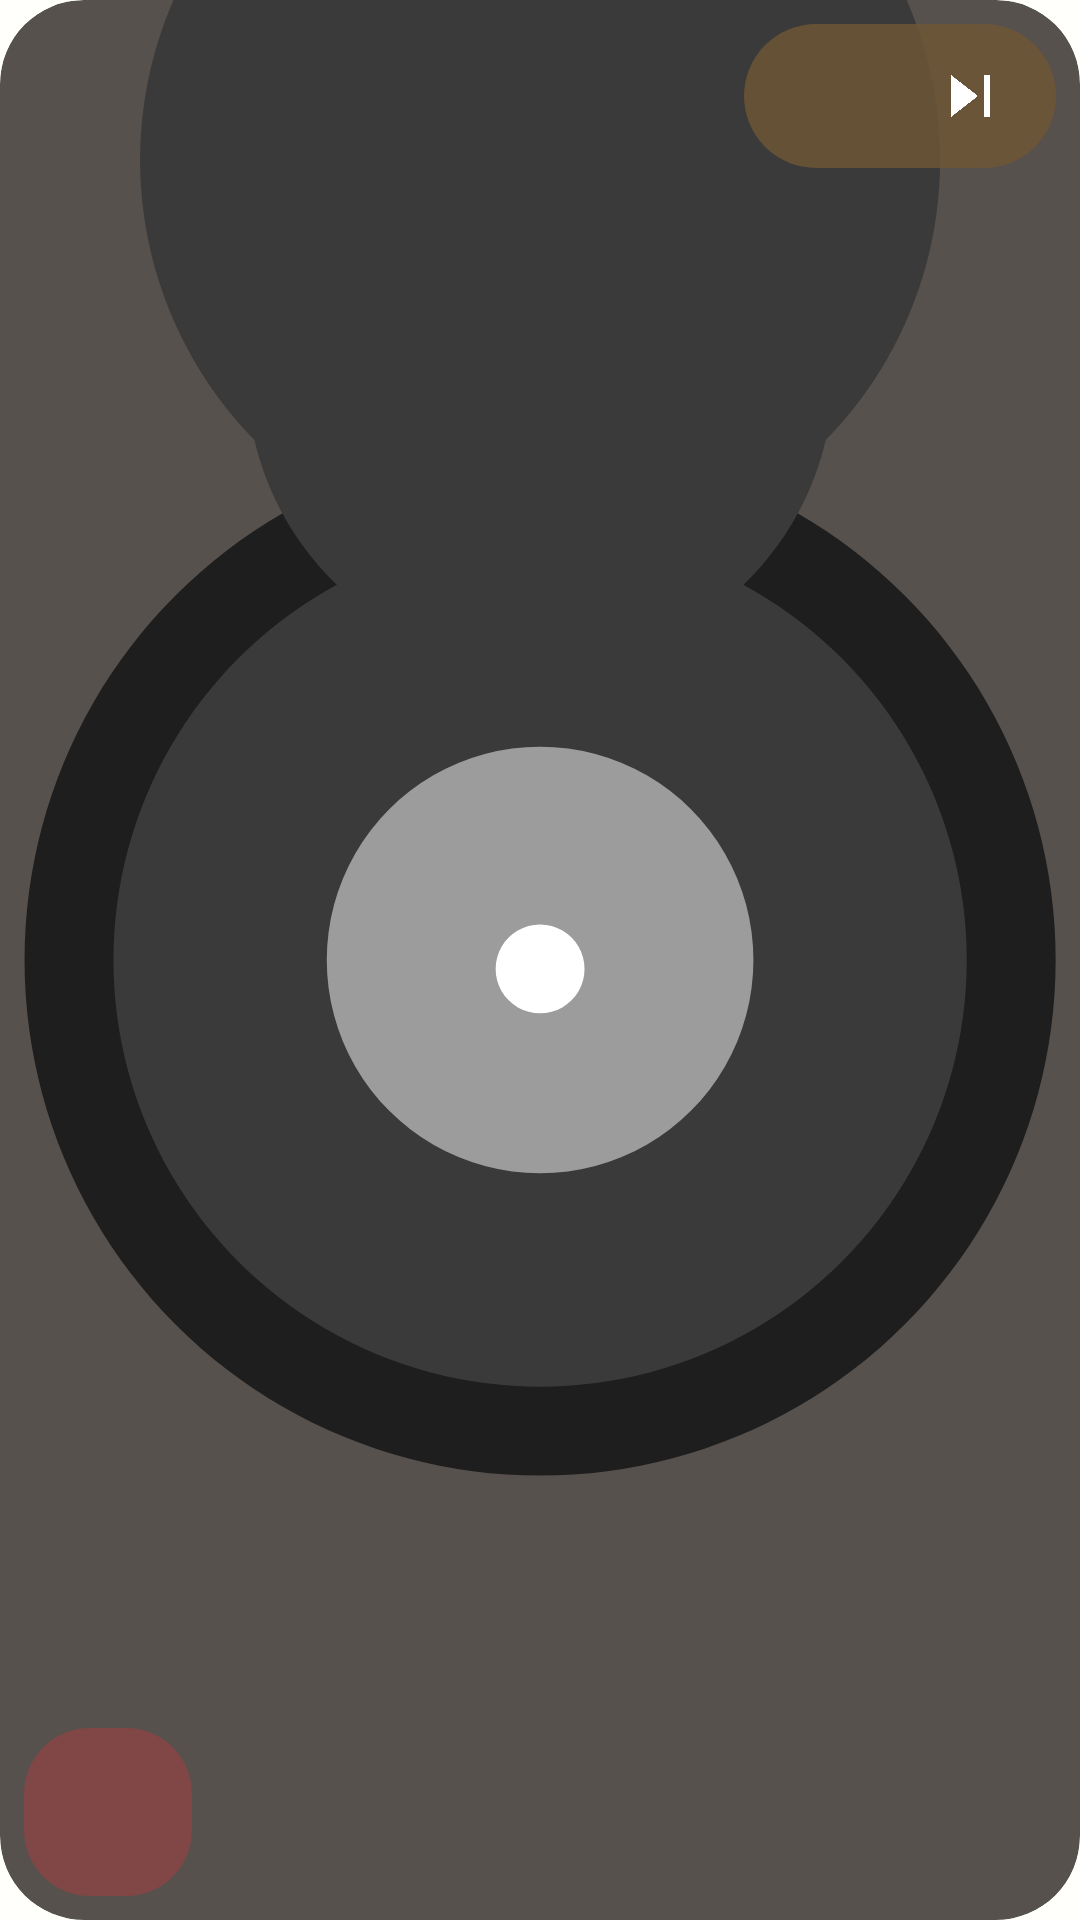

Named icons in this screenshot (1080px x 1920px) and their centers, (x,y):
Next song: (972,96)
